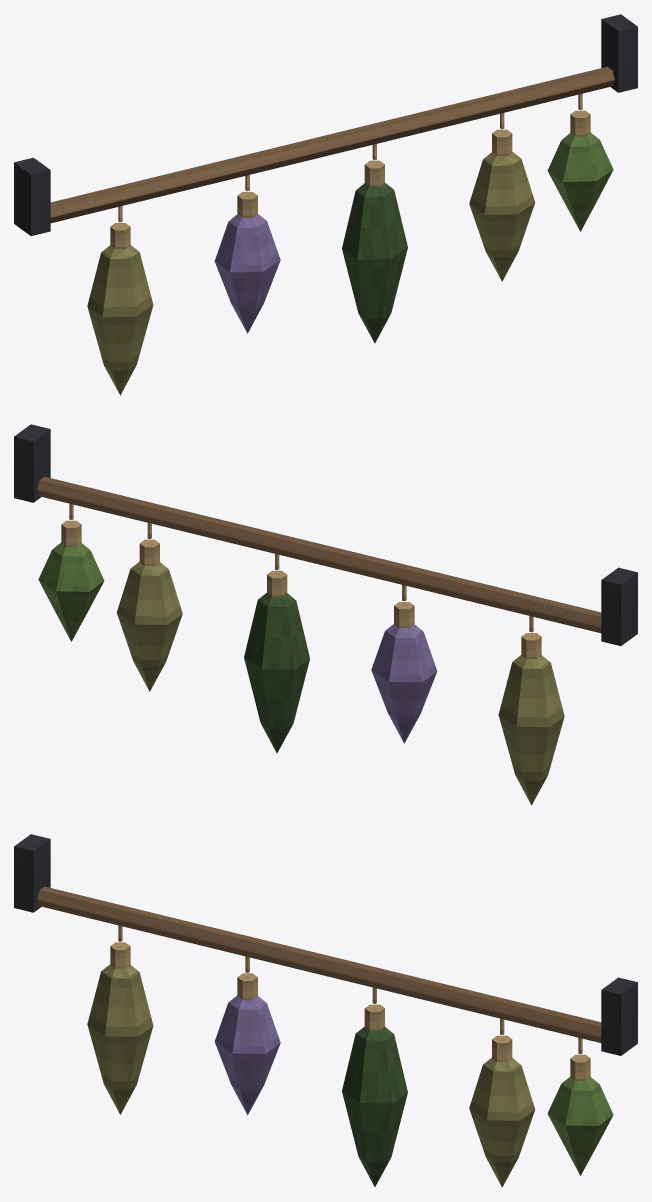
Rendered from herb-bundles.glb.
3 renders of one model, top to bottom at view 1: azimuth 30°, elevation 25°; view 2: azimuth 150°, elevation 25°; view 3: azimuth 330°, elevation 25°, orthographic.
Parts seen in each view (by area): view 1: herb-bundles.001; view 2: herb-bundles.001; view 3: herb-bundles.001.
Part boxes in pixels (left/top/right/bottom): herb-bundles.001: left=14, top=14, right=637, bottom=395; herb-bundles.001: left=14, top=424, right=637, bottom=805; herb-bundles.001: left=14, top=834, right=637, bottom=1187.
Size of the model in its own units: 1.24 by 0.51 by 0.108.
Materials: 1 (1 with a texture image).
